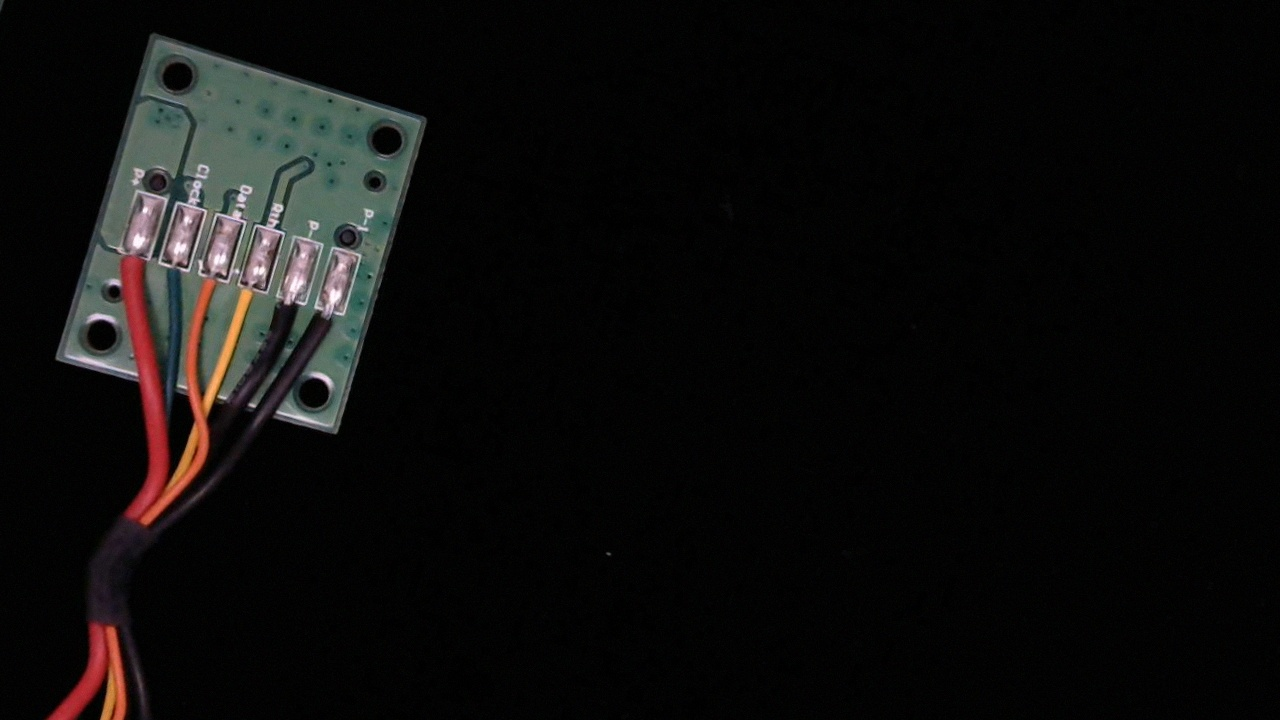Black: (260, 277, 309, 351)
Black1: (301, 290, 353, 364)
Green: (142, 243, 196, 317)
Orange: (180, 256, 234, 334)
Red: (101, 230, 155, 308)
Yellow: (217, 263, 273, 344)
